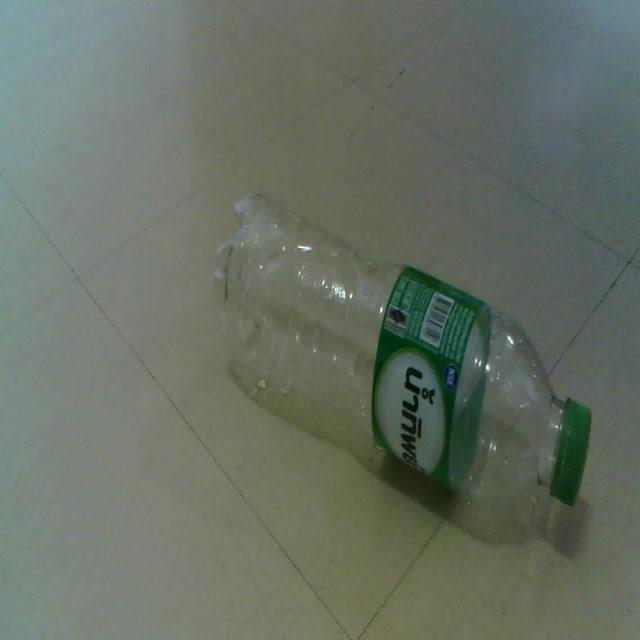empty: (217, 194, 590, 506)
